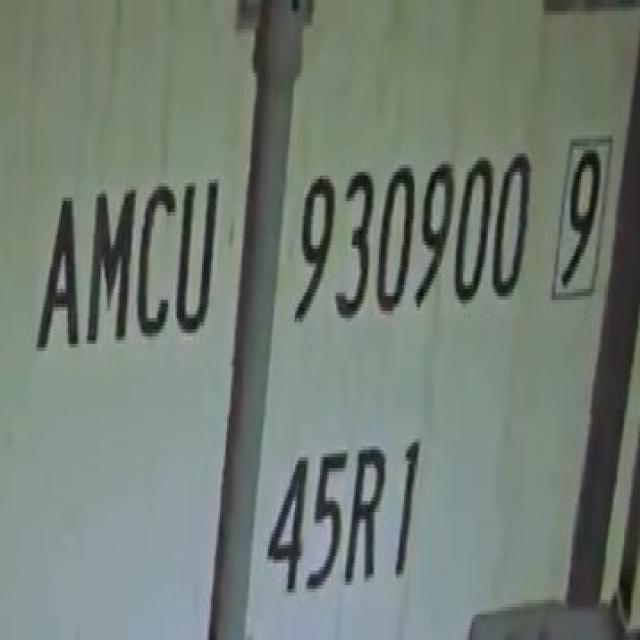dv: (550, 134, 614, 306)
owner: (30, 162, 219, 361)
serial: (276, 136, 531, 335)
size: (256, 416, 428, 610)
